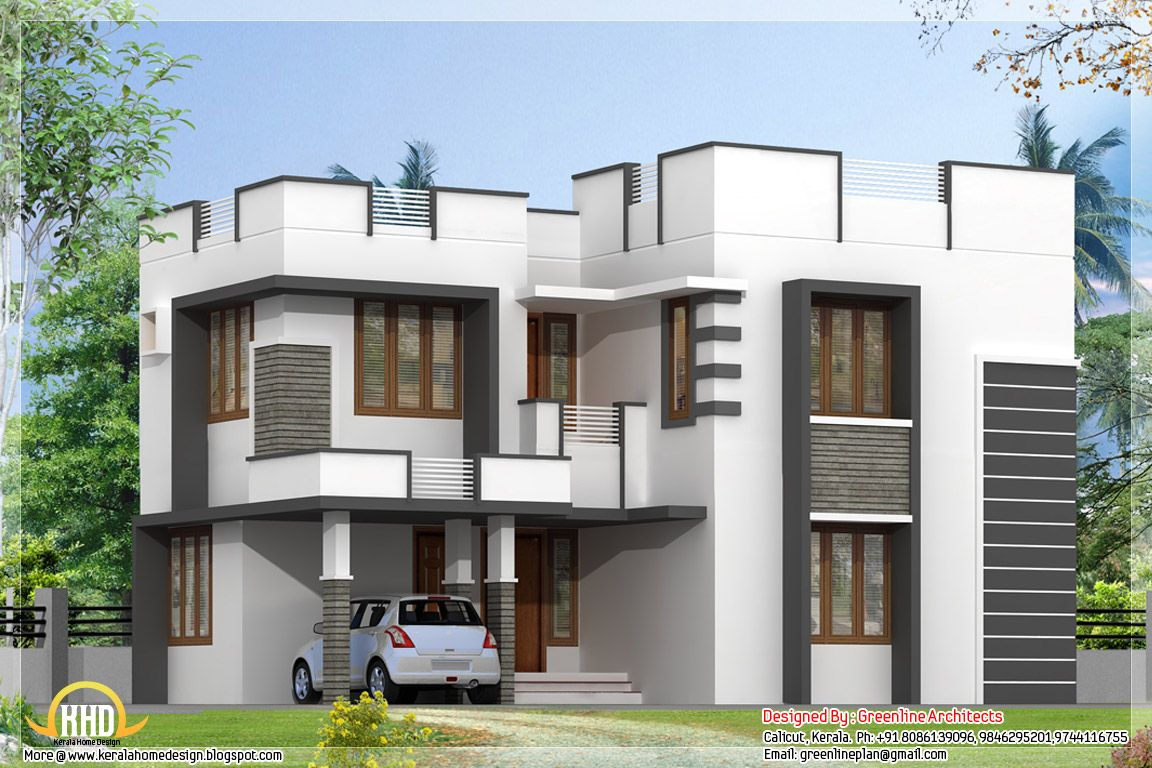Building House: (104, 119, 1101, 711)
